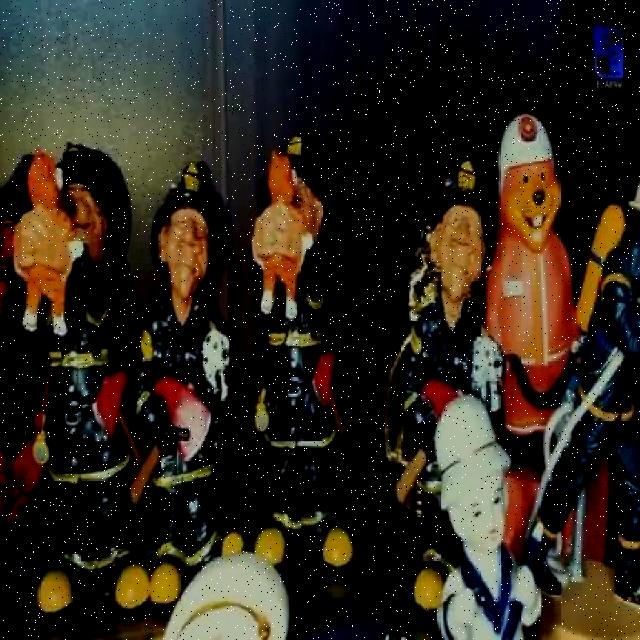Helmet: (260, 132, 342, 265), (150, 164, 227, 284), (428, 157, 494, 240), (496, 112, 558, 198)
Mask: (536, 235, 638, 543), (39, 274, 135, 576), (134, 289, 228, 571), (396, 302, 493, 544), (260, 293, 342, 542)
